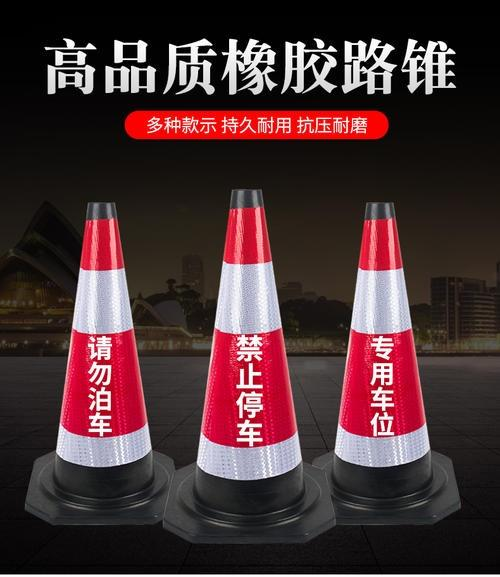cone_barrel: (175, 194, 313, 531), (313, 211, 451, 520), (32, 205, 168, 516)
